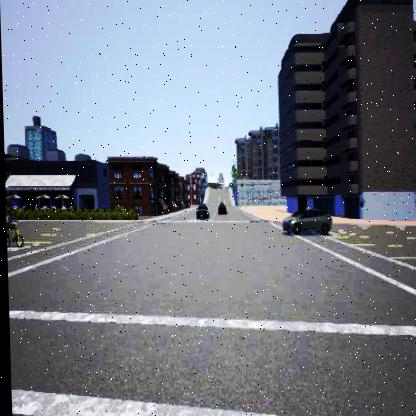bike: (5, 210, 24, 251)
vehicle: (280, 207, 330, 234), (192, 199, 208, 221), (215, 200, 227, 216)
